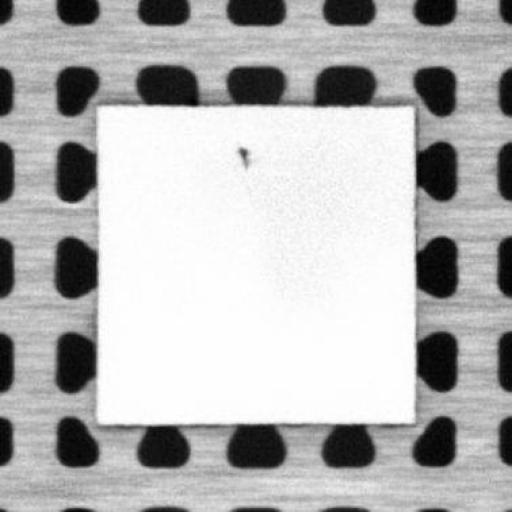DIE_INK: (234, 140, 251, 169)
